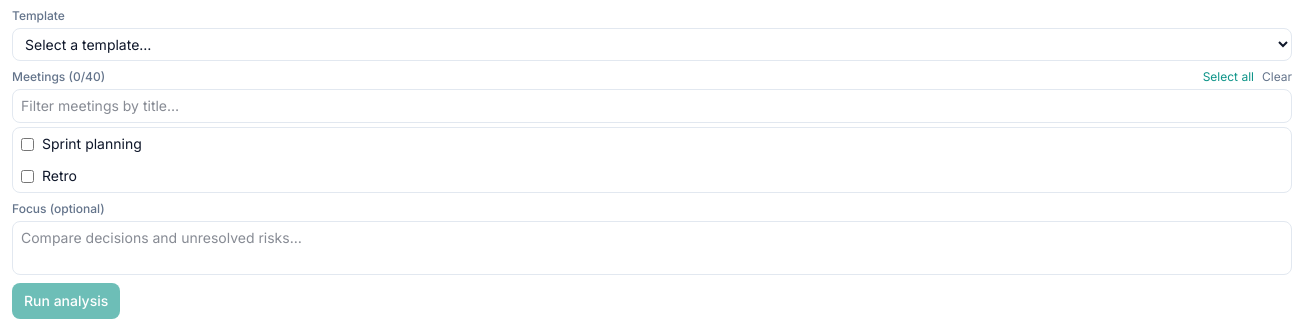
it: CrossAnalysisComposer › filters the note list by title as the user types
Expected: the text "Retro" is shown, [42,166,77,186]
Type "sprint" into the field labelled "Filter meetings".
click(652, 106); type("sprint")  # box [12,89,1292,123]
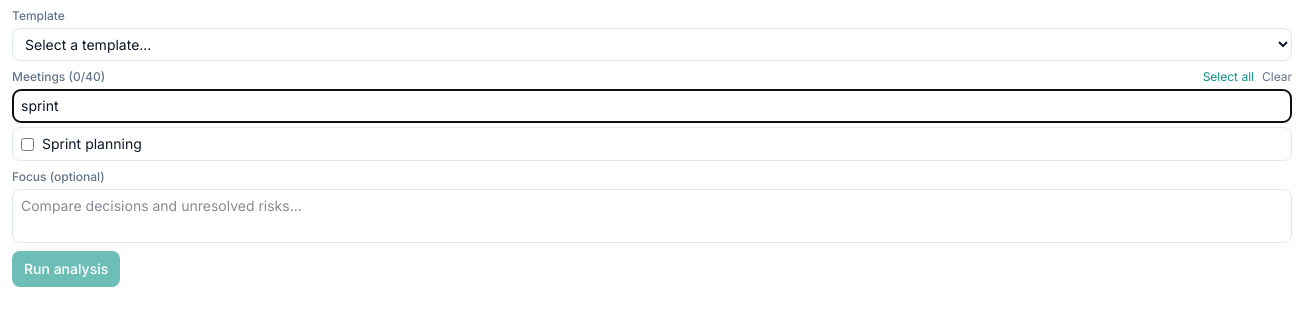
Expected: the text "Sprint planning" is shown, [42,134,142,154]
Expected: the text "Retro" is gone
